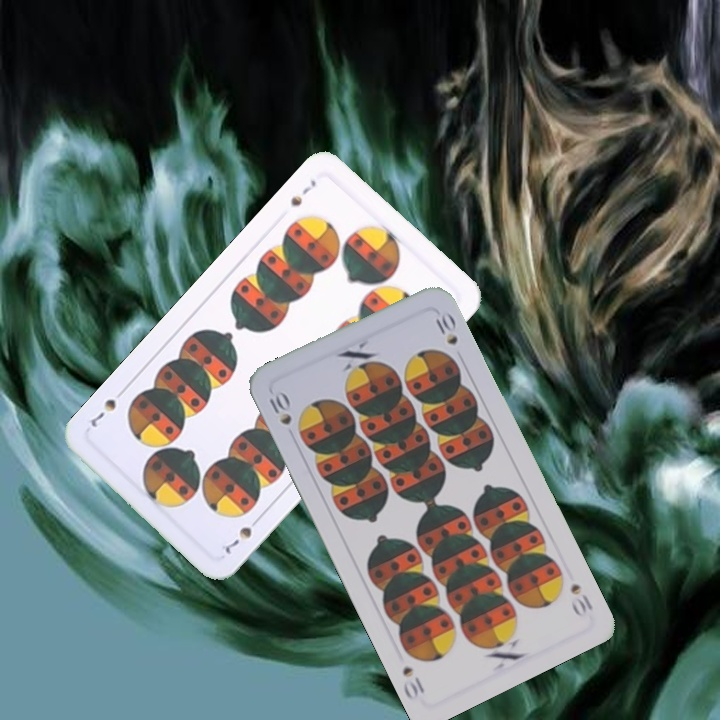S10: (566, 579, 596, 620), (265, 387, 294, 428)
S7: (221, 512, 264, 556), (286, 175, 319, 209)
